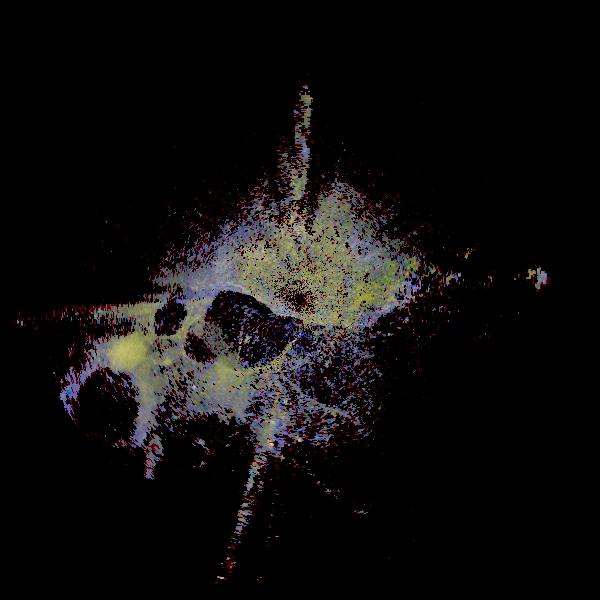roost: (47, 334, 176, 463), (122, 303, 251, 432), (56, 394, 173, 511)
